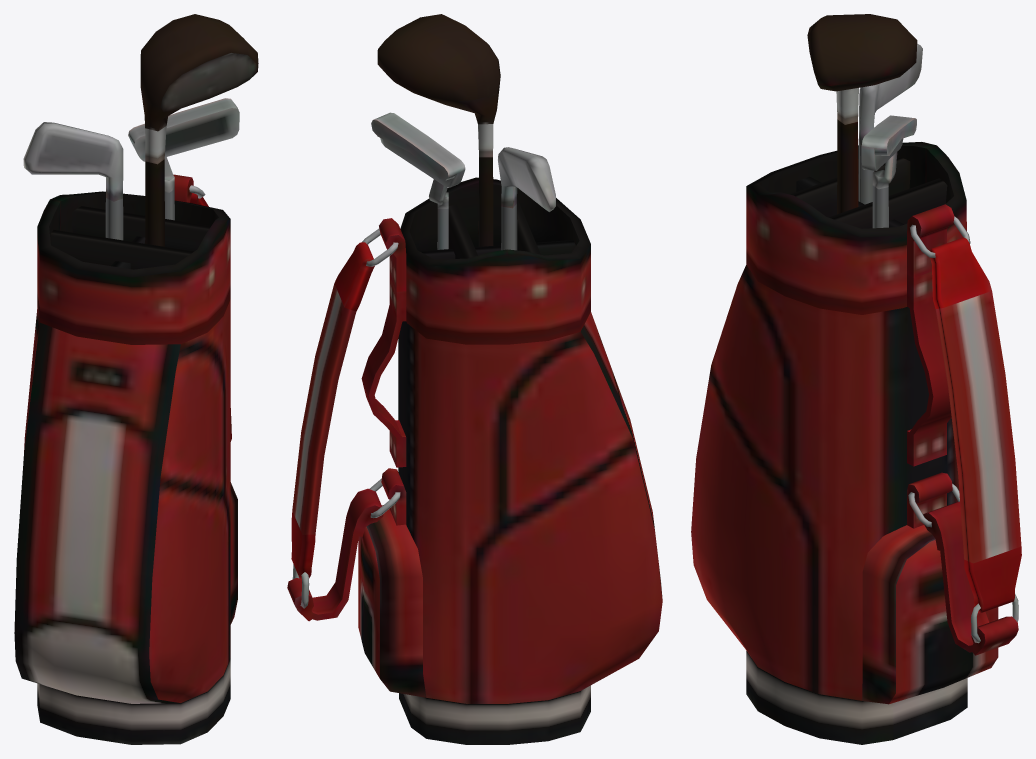
3 renders of one model, left to right at view 1: azimuth 30°, elevation 25°; view 2: azimuth 150°, elevation 25°; view 3: azimuth 270°, elevation 25°, orthographic. The views are drawn at different scales.
Bounding box in the file's own units: 7.5 × 16.15 × 6.8.
1 material, 1 textured.
